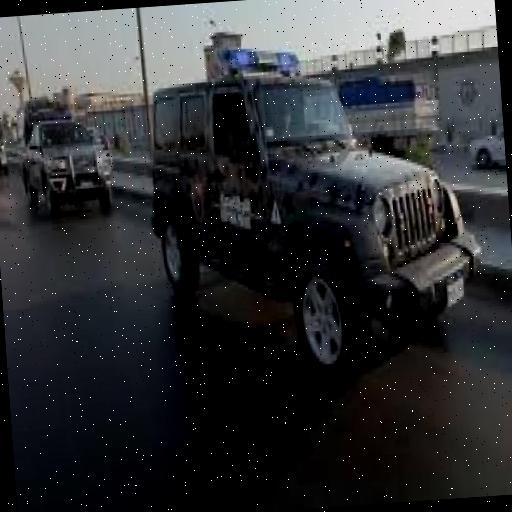Ambulance: (139, 28, 490, 393), (18, 72, 122, 226)
